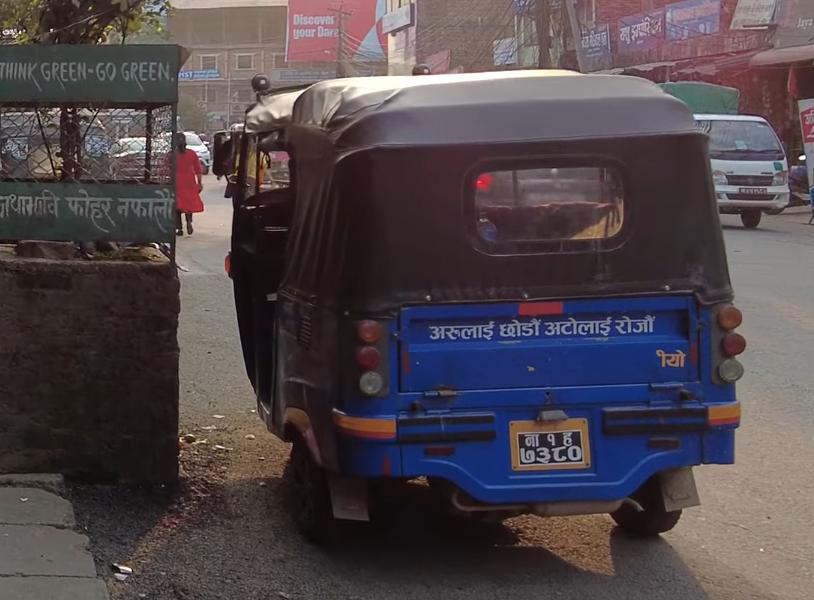auto_rickshaw: (216, 65, 748, 555)
